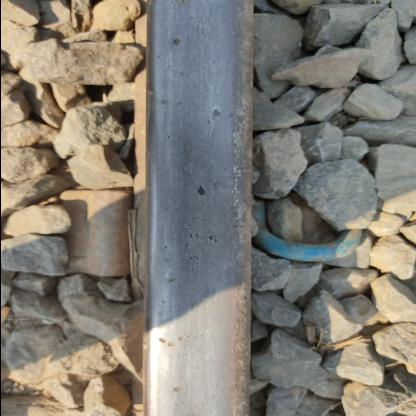Defective 1: (38, 167, 140, 324)
Non Defective 1: (238, 156, 384, 282)
